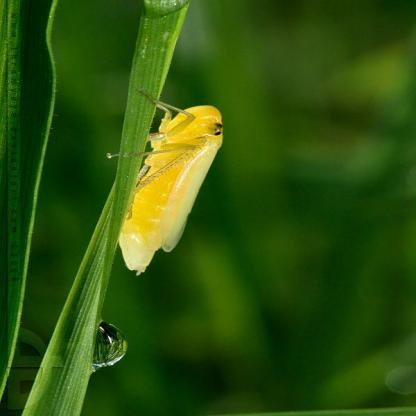Green-Leafhopper: (106, 96, 232, 277)
